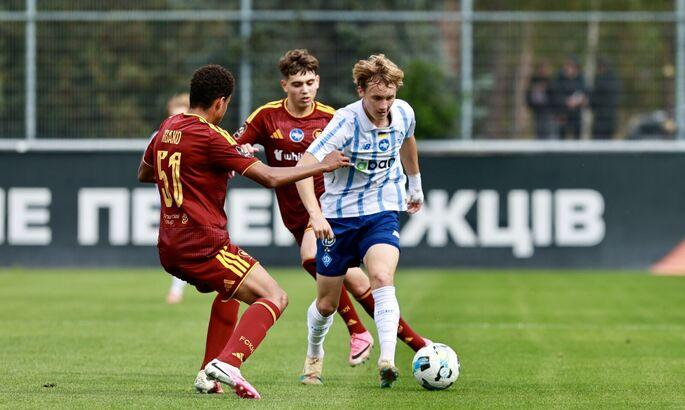ball: (412, 342, 461, 390)
player: (137, 62, 355, 399), (234, 48, 435, 366), (295, 53, 428, 389)
